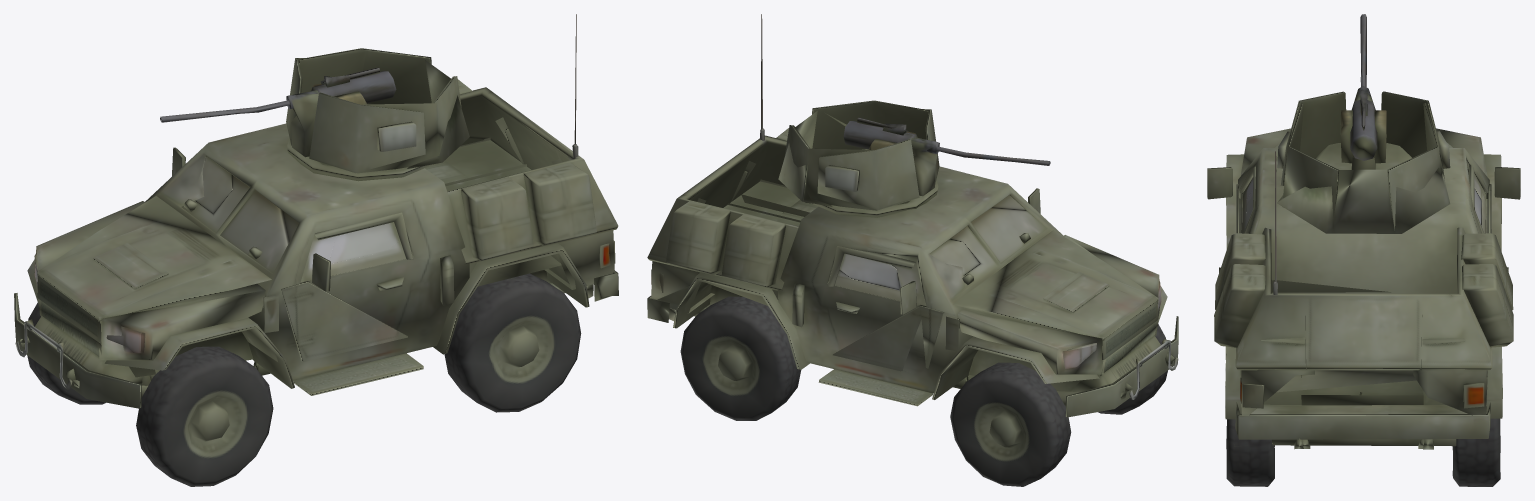
The model's file is us-humvee.glb.
3 views of the same model, side by side, from view 1: azimuth 30°, elevation 25°; view 2: azimuth 150°, elevation 25°; view 3: azimuth 270°, elevation 25° (orthographic). The views are drawn at different scales.
Visible parts, largest first — view 1: geometry_0; view 2: geometry_0; view 3: geometry_0.
Part boxes in pixels (x1,y1,x2,y2): geometry_0: (14,14,618,486); geometry_0: (647,14,1178,486); geometry_0: (1207,14,1520,486).
Bounding box in the file's own units: 1 × 0.6771 × 0.5239.
1 material, 1 textured.
